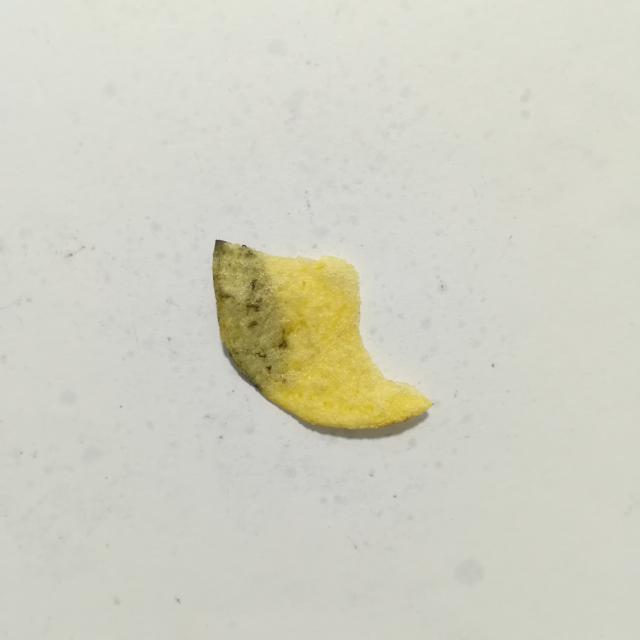chip: (213, 240, 432, 429)
semi-damaged: (213, 240, 289, 392)
